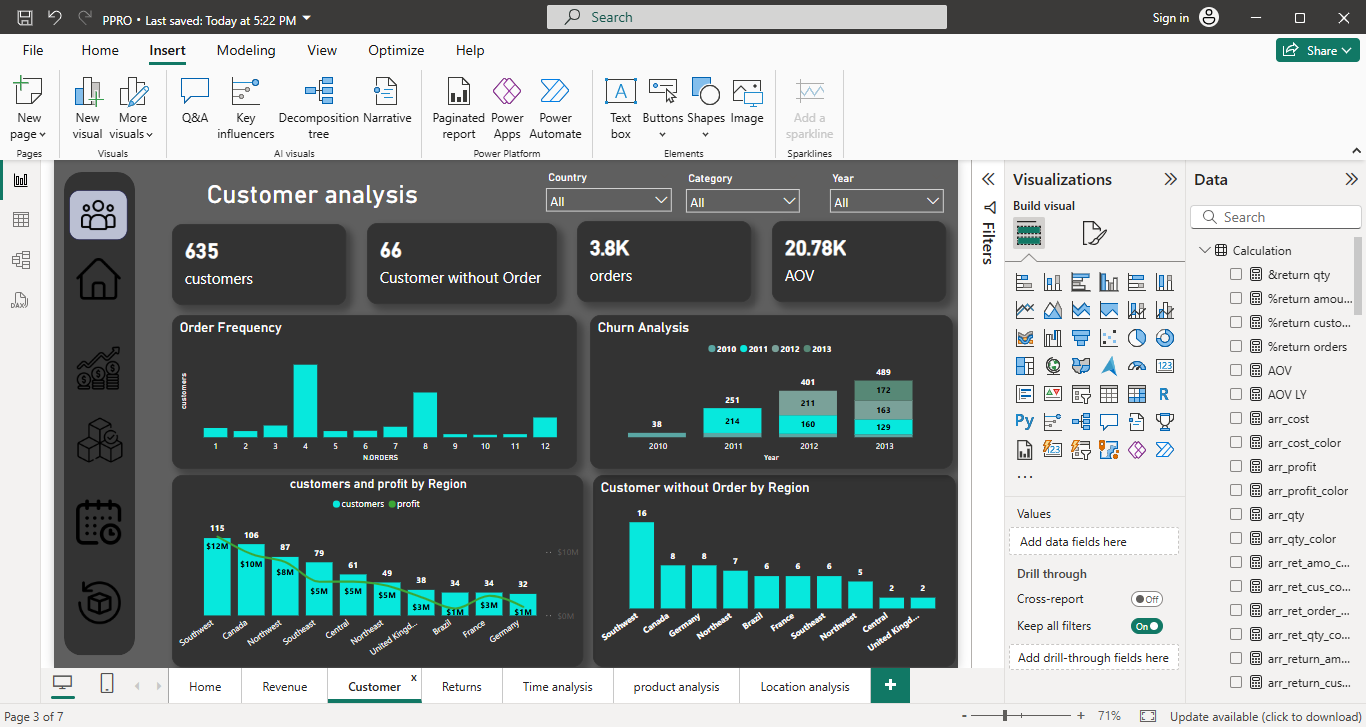

Layout of this report page (visuals, bound fields, positions):
{"tool":"powerbi","page":{"name":"Customer","canvas":[1280,720],"ordinal":2},"visuals":[{"type":"cardVisual","fields":{"Data":["Calculation.customers"]},"box":[166.7,90.8,247.1,114.6],"z":0},{"type":"cardVisual","fields":{"Data":["Calculation.Customer without"]},"box":[443,89.3,269.4,114.6],"z":1000},{"type":"cardVisual","fields":{"Data":["Calculation.oeders"]},"box":[741.7,86.3,247.1,114.6],"z":2000},{"type":"cardVisual","fields":{"Data":["Calculation.AOV"]},"box":[1018,86.3,247.1,114.6],"z":3000},{"type":"clusteredColumnChart","title":"Order Frequency","fields":{"Category":["Customer.N.ORDERS"],"Y":["Calculation.customers"]},"box":[167.2,219.7,574,218.3],"z":4000},{"type":"columnChart","fields":{"Y":["Calculation.Customer without"],"Category":["Customer.Region.1"]},"box":[763.9,446.5,514.5,272.1],"z":5000},{"type":"lineStackedColumnComboChart","fields":{"Y":["Calculation.customers"],"Category":["Customer.Region.1"],"Y2":["Calculation.profit"]},"box":[166.7,446.5,583.4,272.4],"z":6000},{"type":"slicer","fields":{"Values":["Product.CategoryName"]},"box":[885.6,11.5,181.4,67.7],"z":7000},{"type":"shape","box":[14.4,17.3,100.8,685.4],"z":8000},{"type":"slicer","fields":{"Values":["Calendar.Year"]},"box":[1089.7,11.8,180.9,67.6],"z":9000},{"type":"cardVisual","fields":{"Data":["Calculation.cust anal"]},"box":[124.7,0,483.3,86.5],"z":10000},{"type":"image","box":[22.3,132.5,81.9,72.9],"z":11000},{"type":"image","box":[21.6,43.2,83.3,70.9],"z":12000},{"type":"image","box":[20.8,476.3,83.3,74.4],"z":13000},{"type":"image","box":[23.8,590.9,81.9,72.9],"z":14000},{"type":"image","box":[24.1,360,82.2,73.7],"z":15000},{"type":"image","box":[20.8,259,83.3,71.4],"z":16000},{"type":"slicer","fields":{"Values":["Customer.CountryName"]},"box":[687.6,10.4,198,68.5],"z":17000},{"type":"columnChart","title":"Churn Analysis","fields":{"Category":["Calendar.Year"],"Y":["Calculation.customers"],"Series":["Customer.First year"]},"box":[759.7,219.7,514.5,218.3],"z":19000}]}

Visuals, with their boxes on the page's 1280x720 design canvas (x1, y1, x2, y2). These are canvas units, not pixel positions in the 1366x727 screenshot, which may show the page scaled, cropped or inside an application window:
cardVisual - Calculation.customers: (167,91,414,205)
cardVisual - Calculation.Customer without: (443,89,712,204)
cardVisual - Calculation.oeders: (742,86,989,201)
cardVisual - Calculation.AOV: (1018,86,1265,201)
"Order Frequency" clusteredColumnChart: (167,220,741,438)
columnChart - Calculation.Customer without x Customer.Region.1: (764,446,1278,719)
lineStackedColumnComboChart - Calculation.customers x Customer.Region.1: (167,446,750,719)
slicer - Product.CategoryName: (886,12,1067,79)
shape: (14,17,115,703)
slicer - Calendar.Year: (1090,12,1271,79)
cardVisual - Calculation.cust anal: (125,0,608,86)
image: (22,132,104,205)
image: (22,43,105,114)
image: (21,476,104,551)
image: (24,591,106,664)
image: (24,360,106,434)
image: (21,259,104,330)
slicer - Customer.CountryName: (688,10,886,79)
"Churn Analysis" columnChart: (760,220,1274,438)
